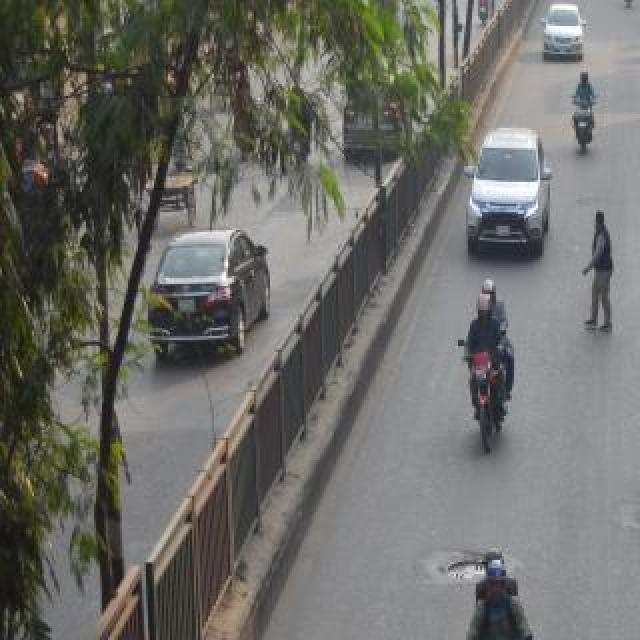car: (114, 222, 294, 406), (470, 127, 550, 265), (339, 46, 427, 154), (542, 4, 586, 64)
motorbike: (452, 289, 518, 461), (434, 554, 534, 640), (566, 72, 604, 166)
